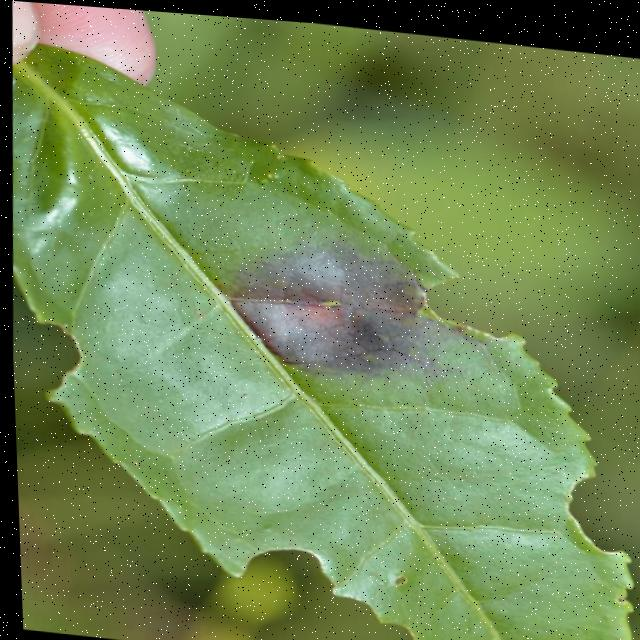Tea exobasidium blight: (207, 230, 453, 399)
